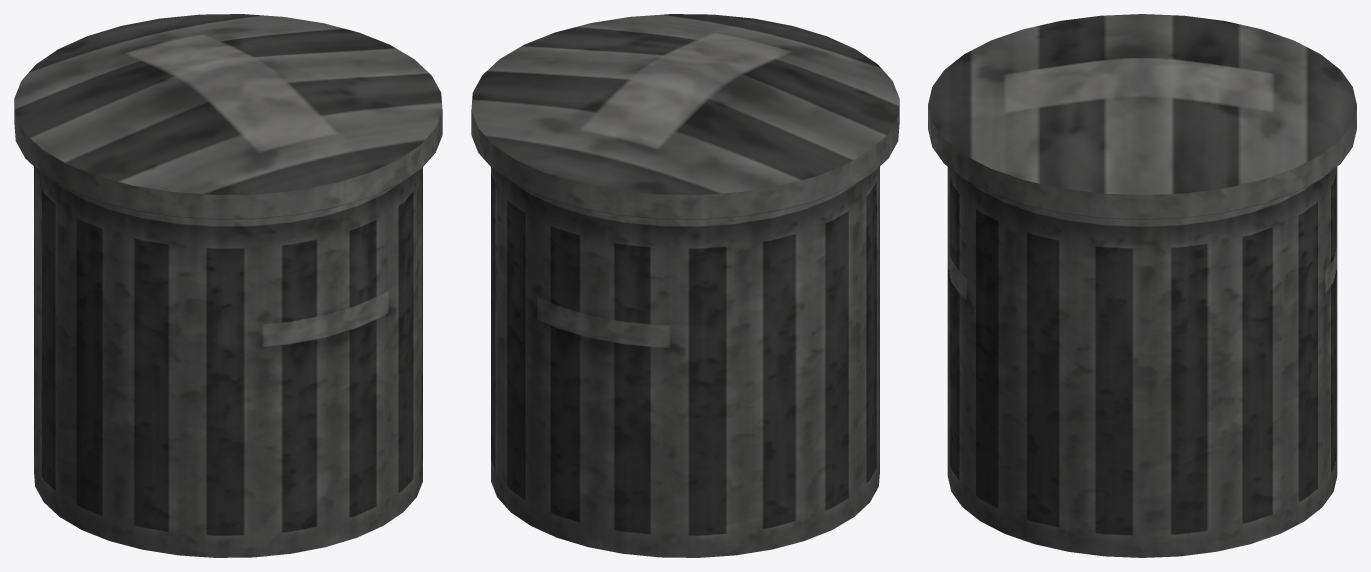
Rendered from trash-can.fbx.
The picture shows the model from 3 angles, left to right: view 1: azimuth 30°, elevation 25°; view 2: azimuth 150°, elevation 25°; view 3: azimuth 270°, elevation 25°; orthographic projection.
Parts seen in each view (by area): view 1: can, lid; view 2: can, lid; view 3: can, lid.
Boxes of the visible parts, left/top/right/bottom form: can: left=34, top=167, right=422, bottom=557; lid: left=14, top=14, right=442, bottom=219; can: left=491, top=167, right=879, bottom=557; lid: left=471, top=14, right=899, bottom=219; can: left=947, top=167, right=1337, bottom=557; lid: left=928, top=14, right=1356, bottom=219.
Bounding box in the file's own units: 110 × 115 × 110.
1 material, 1 textured.
